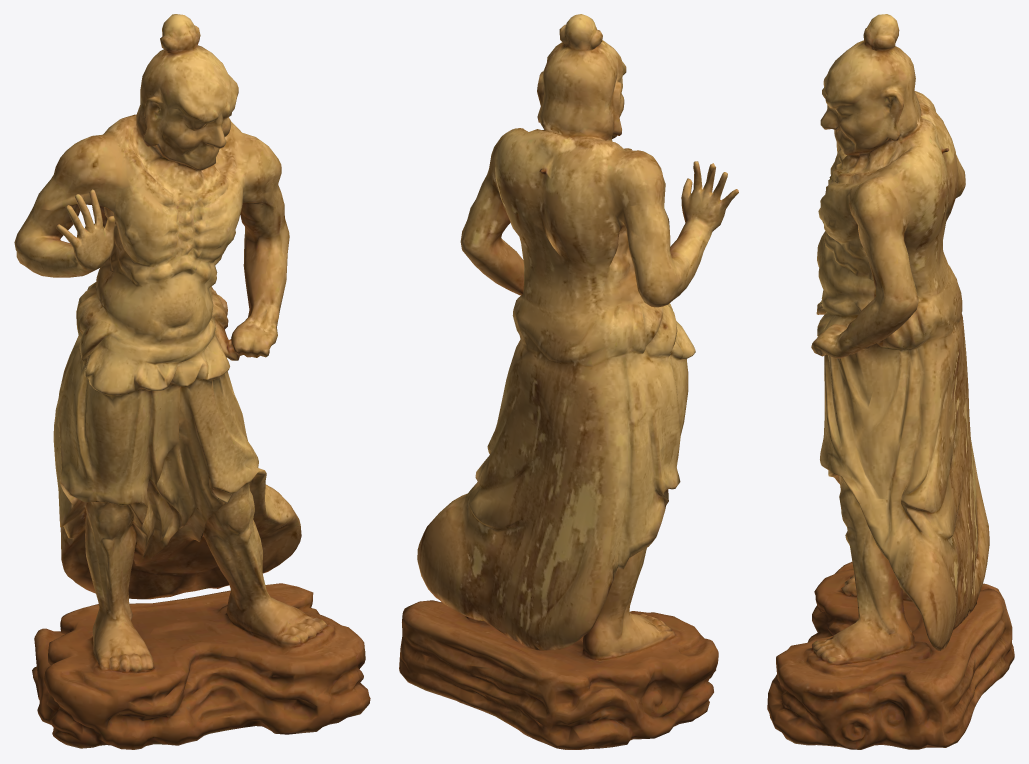
The model's file is guardian-a.glb.
The picture shows the model from 3 angles, left to right: view 1: azimuth 30°, elevation 25°; view 2: azimuth 150°, elevation 25°; view 3: azimuth 270°, elevation 25°; orthographic projection. The views are drawn at different scales.
Visible parts, largest first — view 1: guardian-a-low; view 2: guardian-a-low; view 3: guardian-a-low.
Part boxes in pixels (x1,y1,x2,y2): guardian-a-low: (14, 14, 370, 749); guardian-a-low: (399, 14, 738, 749); guardian-a-low: (767, 14, 1014, 749).
Size of the model in its own units: 0.4541 by 1 by 0.3373.
1 material, 1 textured.
